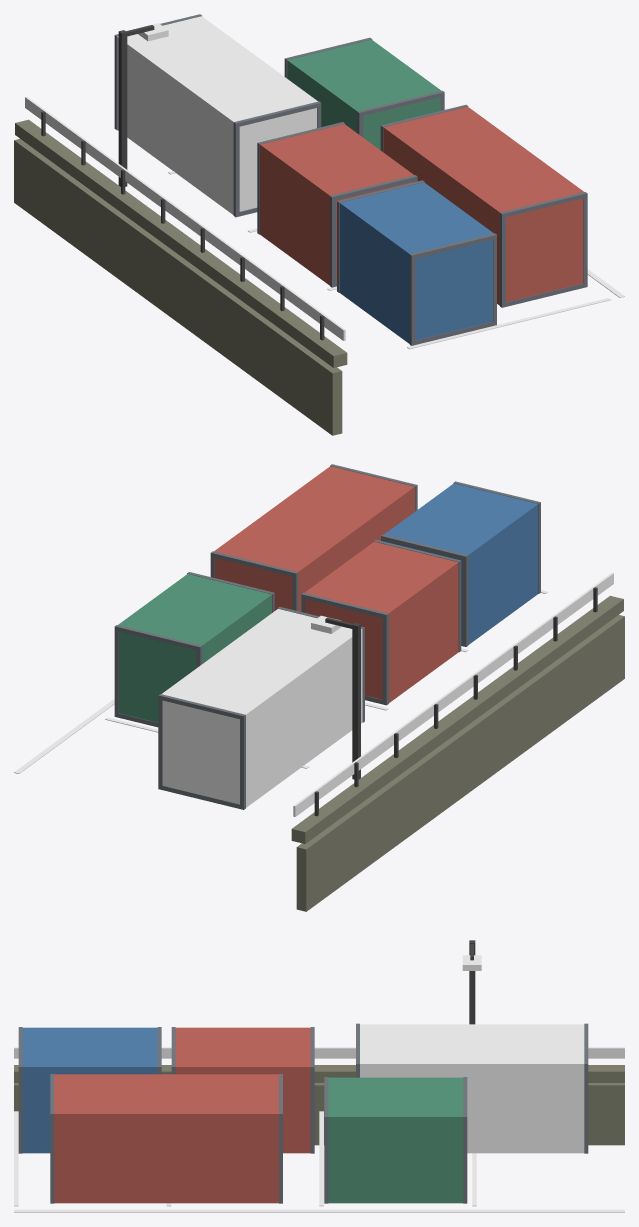
Rendered from platform_wall.fbx.
3 renders of one model, top to bottom at view 1: azimuth 30°, elevation 25°; view 2: azimuth 150°, elevation 25°; view 3: azimuth 270°, elevation 25°, orthographic. The views are drawn at different scales.
Parts seen in each view (by area): view 1: p463_platform_wall; view 2: p463_platform_wall; view 3: p463_platform_wall.
Part boxes in pixels (box(x1,y1,x2,y2)): p463_platform_wall: box(14, 14, 624, 435); p463_platform_wall: box(14, 464, 624, 911); p463_platform_wall: box(14, 940, 624, 1212).
Size of the model in its own units: 8.48 by 6.15 by 16.
